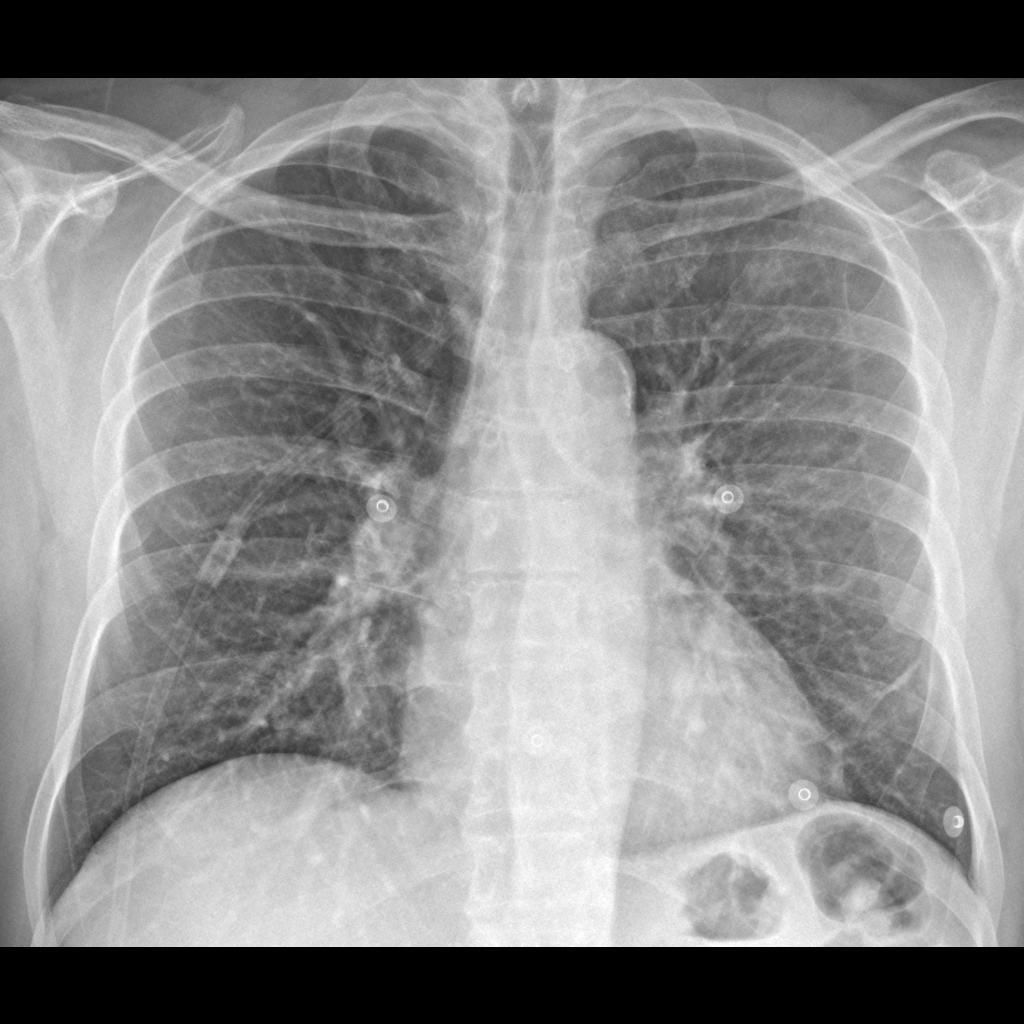Nodule: (732, 253, 809, 316)
